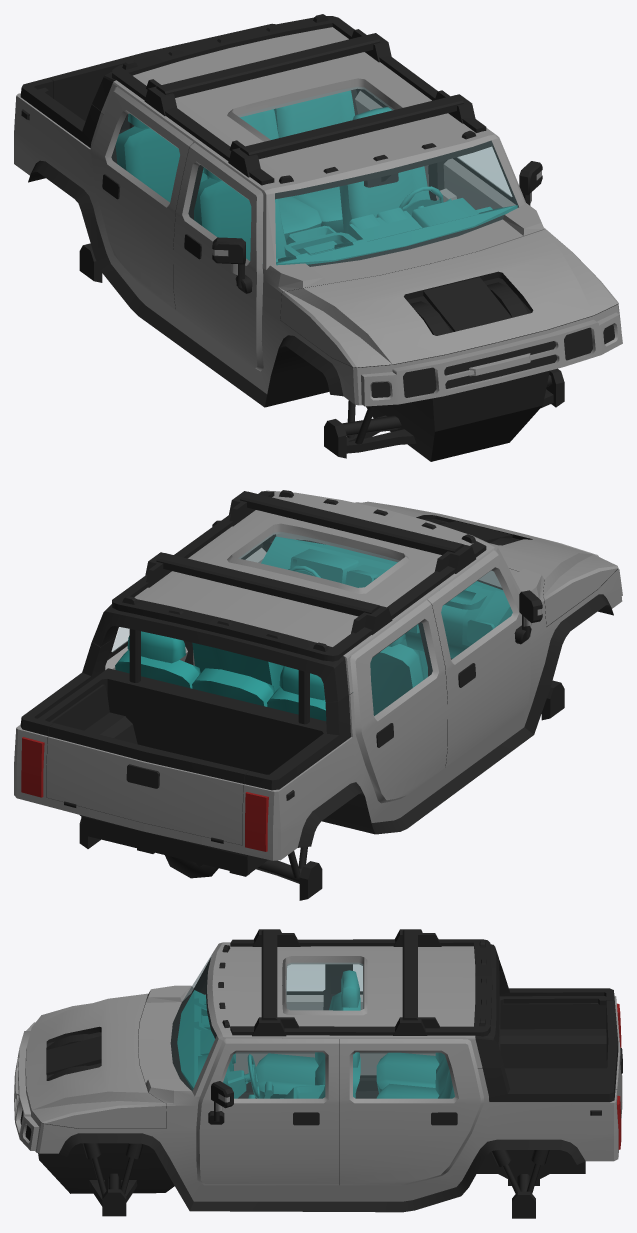
Rendered from Offroad_1.FBX.
3 renders of one model, top to bottom at view 1: azimuth 30°, elevation 25°; view 2: azimuth 150°, elevation 25°; view 3: azimuth 270°, elevation 25°, orthographic. The views are drawn at different scales.
Parts seen in each view (by area): view 1: Offroad_1, Offroad_1_Roof, Offroad_1_Hood, Offroad_Dashboard, Offroad_1_Window_F, Offroad_1_Door_FR, Offroad_1_Door_RR, Offroad_1_Door_Suspension, Offroad_1_Window_T, Offroad_1_Window_RR, Offroad_1_Window_FR, Offroad_1_Door_FL (+2 smaller); view 2: Offroad_1, Offroad_1_Roof, Offroad_Dashboard, Offroad_1_Trunk, Offroad_1_Door_FR, Offroad_1_Door_RR, Offroad_1_Hood, Offroad_1_Window_T, Offroad_1_Window_FR, Offroad_1_Window_RR, Offroad_1_Door_Suspension; view 3: Offroad_1, Offroad_1_Roof, Offroad_1_Door_FL, Offroad_1_Door_RL, Offroad_1_Hood, Offroad_Dashboard, Offroad_1_Window_FL, Offroad_1_Window_RL, Offroad_1_Door_Suspension, Offroad_1_Window_T, Offroad_1_Window_F, Offroad_1_Door_FR (+3 smaller).
Part boxes in pixels (x1=…): Offroad_1: x1=14, y1=23, x2=622, y2=461; Offroad_1_Roof: x1=92, y1=14, x2=524, y2=269; Offroad_1_Hood: x1=280, y1=228, x2=618, y2=367; Offroad_Dashboard: x1=115, y1=90, x2=517, y2=265; Offroad_1_Window_F: x1=275, y1=141, x2=518, y2=266; Offroad_1_Door_FR: x1=173, y1=142, x2=263, y2=371; Offroad_1_Door_RR: x1=91, y1=87, x2=193, y2=309; Offroad_1_Door_Suspension: x1=79, y1=243, x2=564, y2=458; Offroad_1_Window_T: x1=238, y1=87, x2=393, y2=139; Offroad_1_Window_RR: x1=111, y1=114, x2=179, y2=201; Offroad_1_Window_FR: x1=188, y1=165, x2=250, y2=260; Offroad_1_Door_FL: x1=436, y1=128, x2=542, y2=209; Offroad_1: x1=14, y1=506, x2=622, y2=878; Offroad_1_Roof: x1=92, y1=490, x2=520, y2=724; Offroad_Dashboard: x1=115, y1=536, x2=512, y2=721; Offroad_1_Trunk: x1=46, y1=723, x2=249, y2=844; Offroad_1_Door_FR: x1=427, y1=550, x2=542, y2=767; Offroad_1_Door_RR: x1=350, y1=600, x2=447, y2=803; Offroad_1_Hood: x1=355, y1=501, x2=618, y2=626; Offroad_1_Window_T: x1=239, y1=532, x2=399, y2=587; Offroad_1_Window_FR: x1=441, y1=571, x2=512, y2=659; Offroad_1_Window_RR: x1=370, y1=622, x2=432, y2=715; Offroad_1_Door_Suspension: x1=79, y1=680, x2=564, y2=900; Offroad_1: x1=14, y1=971, x2=622, y2=1212; Offroad_1_Roof: x1=191, y1=929, x2=503, y2=1096; Offroad_1_Door_FL: x1=196, y1=1038, x2=338, y2=1185; Offroad_1_Door_RL: x1=339, y1=1039, x2=483, y2=1185; Offroad_1_Hood: x1=26, y1=993, x2=166, y2=1128; Offroad_Dashboard: x1=177, y1=970, x2=454, y2=1098; Offroad_1_Window_FL: x1=223, y1=1052, x2=324, y2=1098; Offroad_1_Window_RL: x1=353, y1=1052, x2=454, y2=1098; Offroad_1_Door_Suspension: x1=82, y1=1143, x2=549, y2=1218; Offroad_1_Window_T: x1=286, y1=963, x2=362, y2=1010; Offroad_1_Window_F: x1=171, y1=955, x2=216, y2=1090; Offroad_1_Door_FR: x1=200, y1=964, x2=330, y2=1074.
Bounding box in the file's own units: 236 × 166 × 449.
